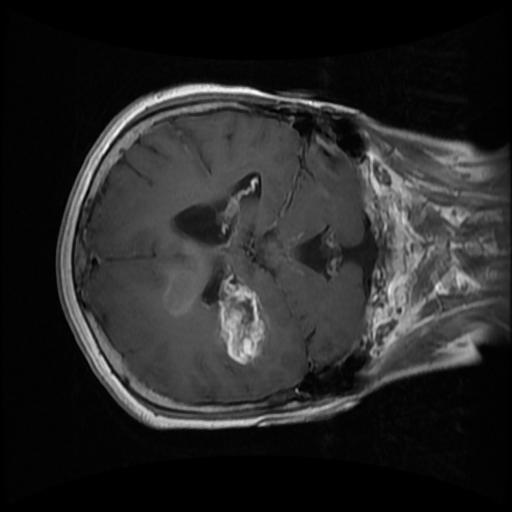glioma: (163, 241, 268, 364)
